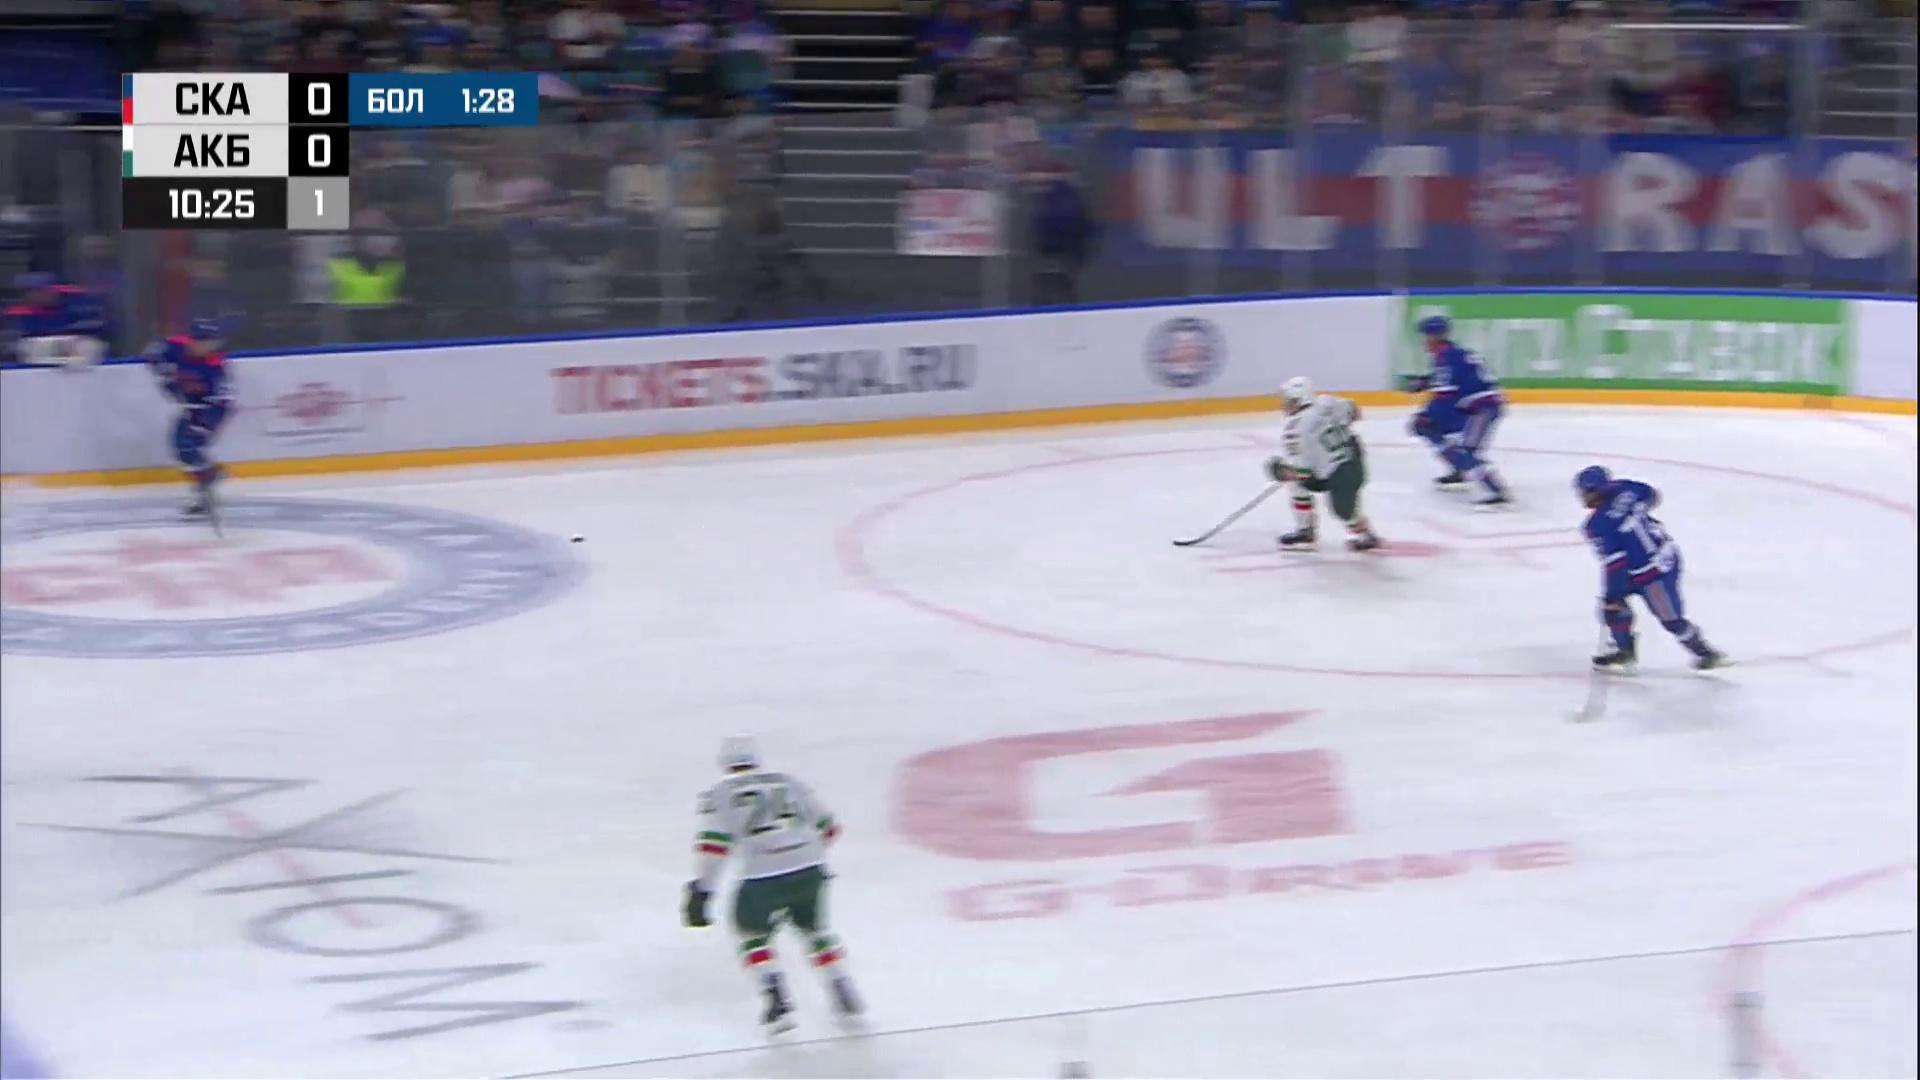ball: (570, 537, 585, 543)
